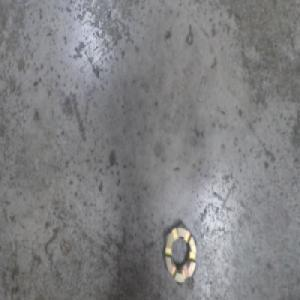Nut: (163, 219, 197, 286)
